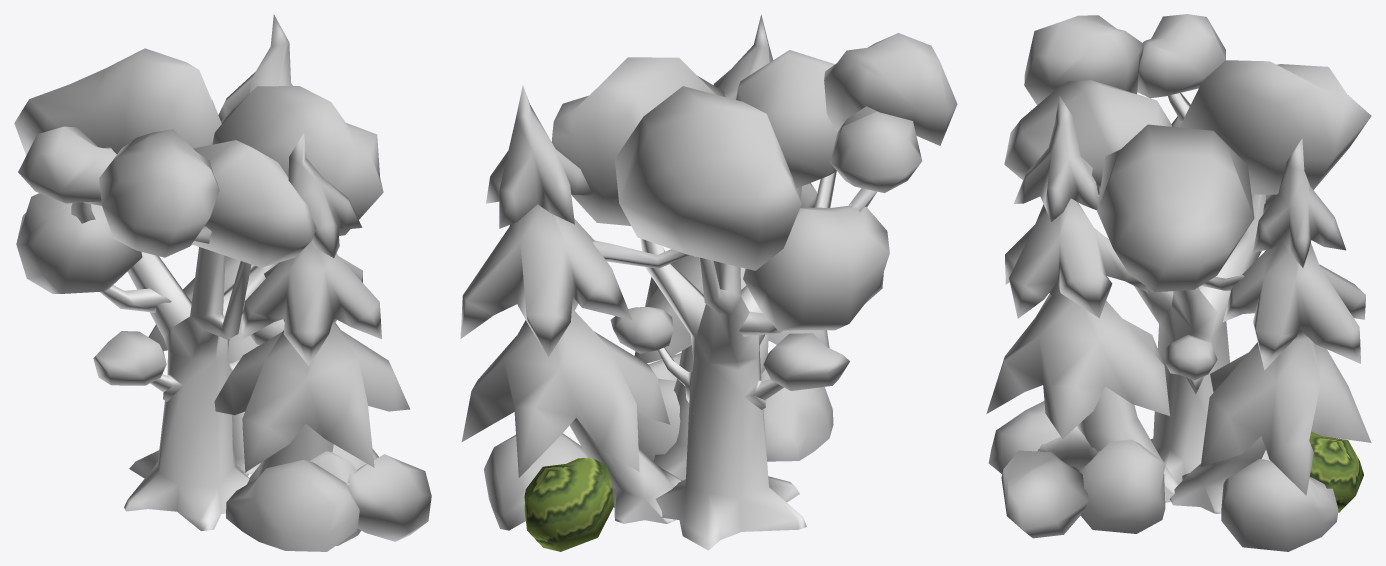
Rendered from forest_border01.fbx.
The picture shows the model from 3 angles, left to right: view 1: azimuth 30°, elevation 25°; view 2: azimuth 150°, elevation 25°; view 3: azimuth 270°, elevation 25°; orthographic projection. The views are drawn at different scales.
Parts seen in each view (by area): view 1: polySurface39; view 2: polySurface39; view 3: polySurface39.
Boxes of the visible parts, bbox=[...] form: polySurface39: bbox=[14, 14, 431, 551]; polySurface39: bbox=[460, 14, 957, 551]; polySurface39: bbox=[986, 14, 1371, 551].
Bounding box in the file's own units: 505 × 570 × 482.
